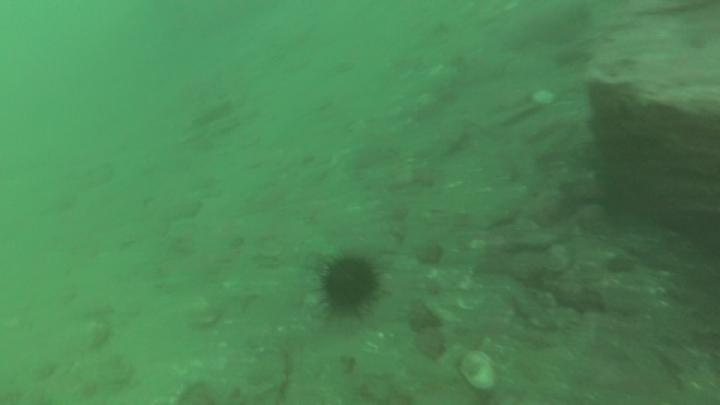echinus: (316, 252, 382, 322)
